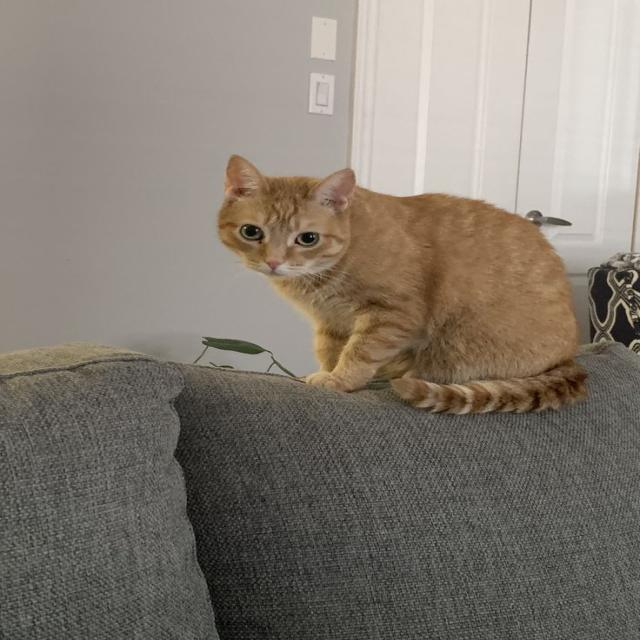sarman: (48, 97, 640, 532)
